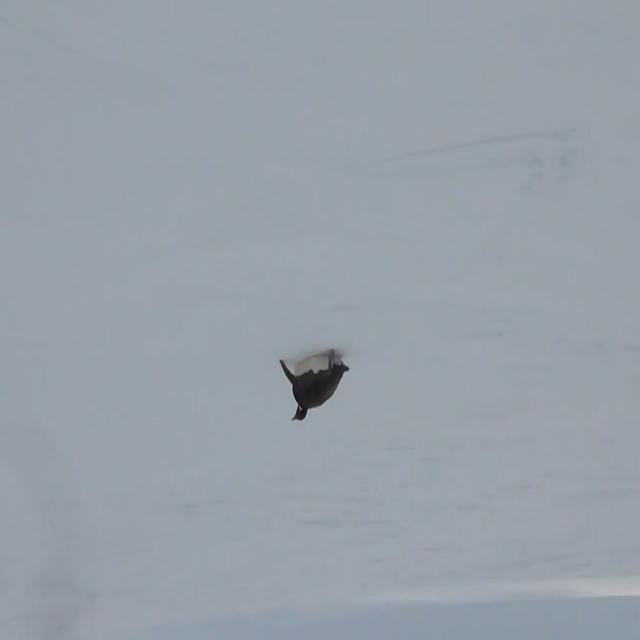penguin: (277, 346, 351, 424)
